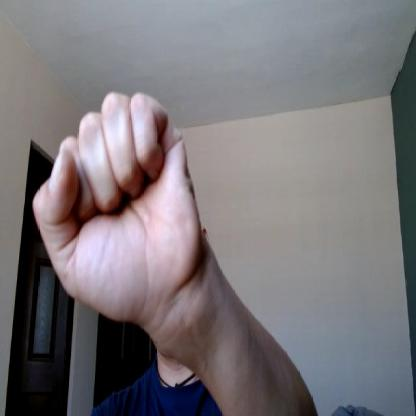S: (31, 93, 200, 319)
